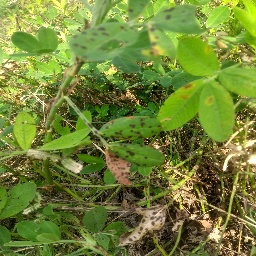GroundNut_Leaf: (162, 79, 207, 132), (73, 23, 134, 60), (177, 35, 222, 76), (147, 7, 200, 35), (208, 79, 235, 133), (101, 116, 161, 140), (1, 181, 35, 215), (43, 130, 88, 151), (109, 144, 164, 161), (17, 221, 61, 242), (15, 31, 58, 51), (15, 113, 36, 151), (233, 7, 256, 36), (83, 209, 106, 233), (1, 227, 9, 248)
